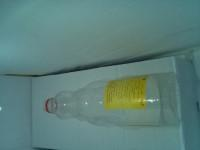bottle: (37, 70, 175, 137)
